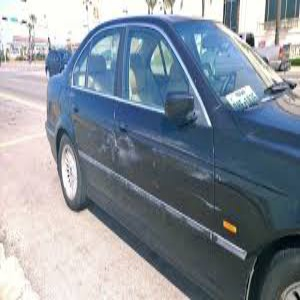door_scratch: (86, 122, 225, 205)
